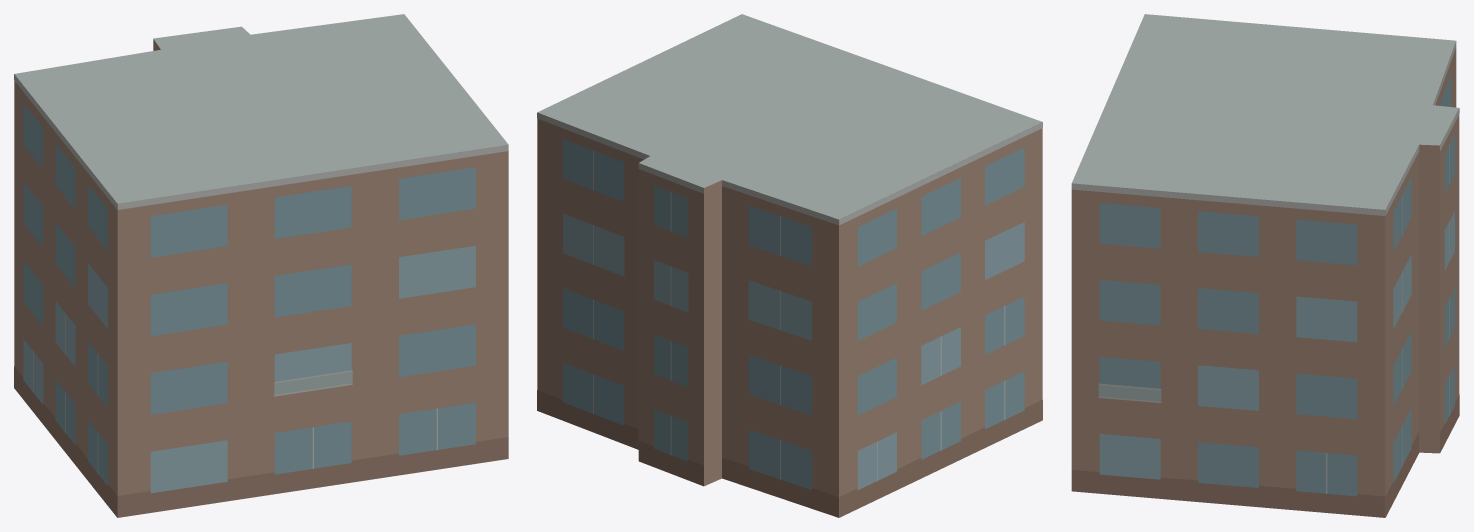
The model's file is survey-upis-32701241.glb.
3 views of the same model, side by side, from view 1: azimuth 30°, elevation 25°; view 2: azimuth 150°, elevation 25°; view 3: azimuth 270°, elevation 25° (orthographic). The views are drawn at different scales.
Parts seen in each view (by area): view 1: survey-upis-32701241.tmp; view 2: survey-upis-32701241.tmp; view 3: survey-upis-32701241.tmp.
Boxes of the visible parts, box(x1,y1,x2,y2) form: survey-upis-32701241.tmp: box(14, 14, 508, 517); survey-upis-32701241.tmp: box(537, 14, 1042, 517); survey-upis-32701241.tmp: box(1071, 14, 1459, 517).
Bounding box in the file's own units: 16.66 × 12.2 × 13.93.
